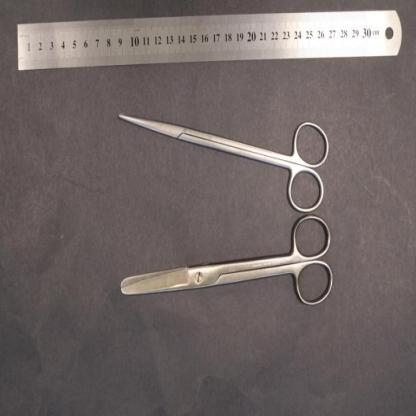7 Metzenbaum Scissors: (119, 114, 330, 214)
Dressing Scissors: (122, 215, 335, 308)
